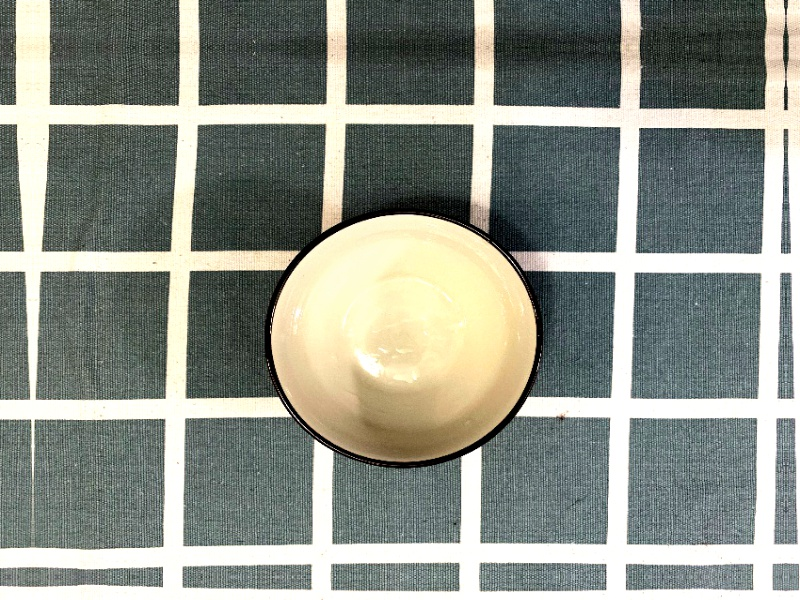bowl_small: (256, 200, 552, 473)
